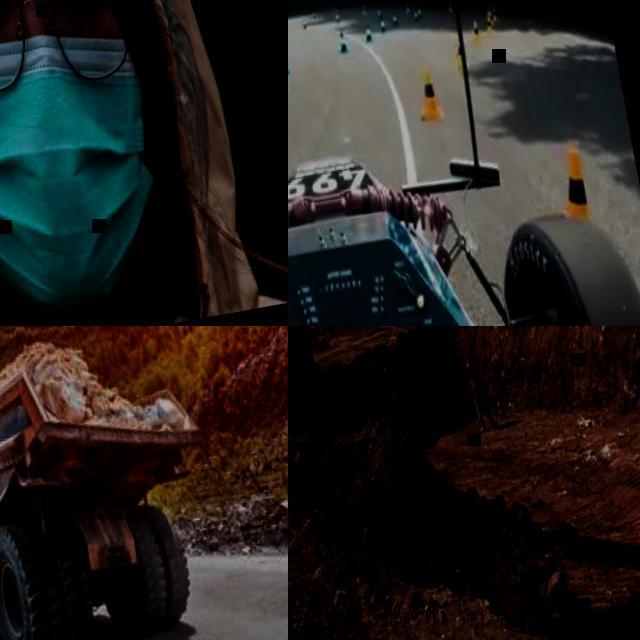helmet: (467, 359, 474, 366)
